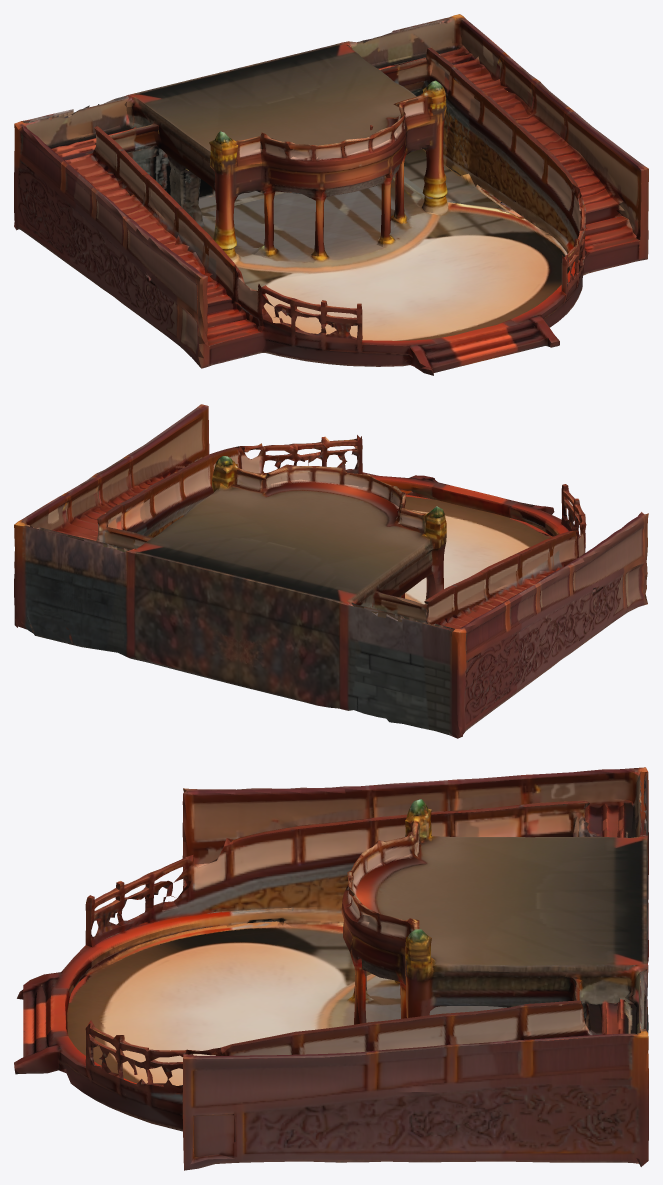
The model's file is MDL_Environment_MiracleTavern_MeshyAI0122081851Texture_D4E7.fbx.
3 renders of one model, top to bottom at view 1: azimuth 30°, elevation 25°; view 2: azimuth 150°, elevation 25°; view 3: azimuth 270°, elevation 25°, orthographic. The views are drawn at different scales.
Parts seen in each view (by area): view 1: Mesh0; view 2: Mesh0; view 3: Mesh0.
Boxes of the visible parts, x1,y1,x2,y2 form: Mesh0: (14,14,648,375); Mesh0: (14,404,648,738); Mesh0: (14,767,648,1170).
Bounding box in the file's own units: 191 × 57.13 × 190.
1 material, 1 textured.
